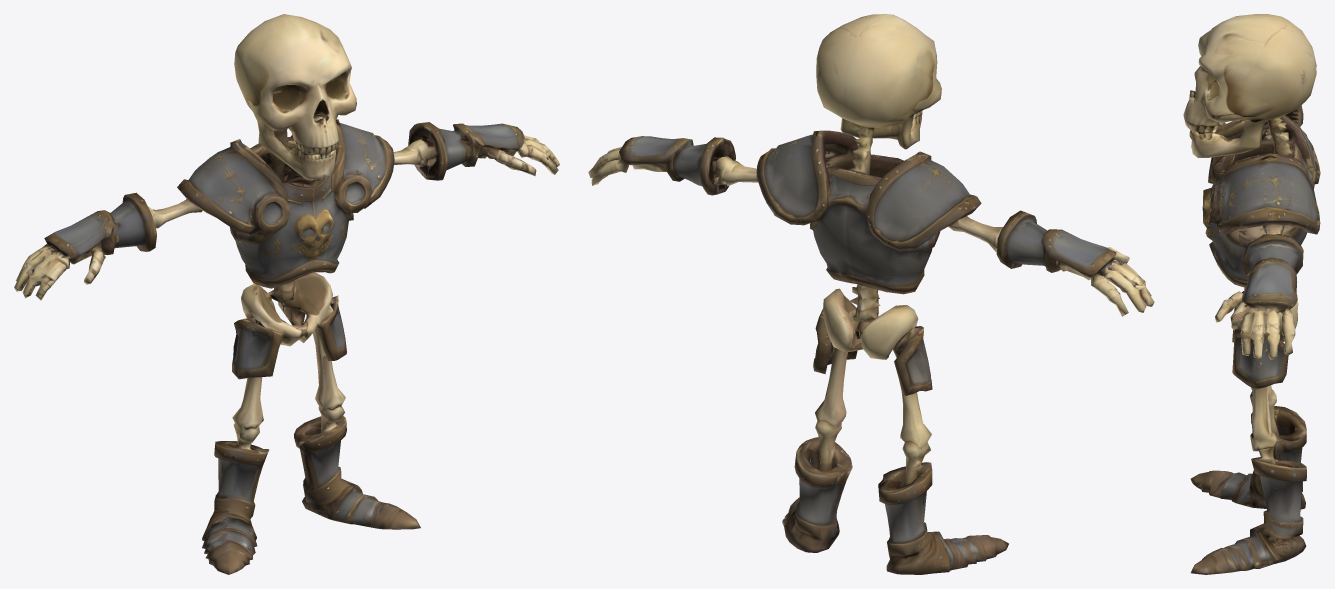
The model's file is A_stylized_medieval_f_1104084943_texture.glb.
The picture shows the model from 3 angles, left to right: view 1: azimuth 30°, elevation 25°; view 2: azimuth 150°, elevation 25°; view 3: azimuth 270°, elevation 25°; orthographic projection. The views are drawn at different scales.
Size of the model in its own units: 1.91 by 1.72 by 0.421.
Materials: 1 (1 with a texture image).
